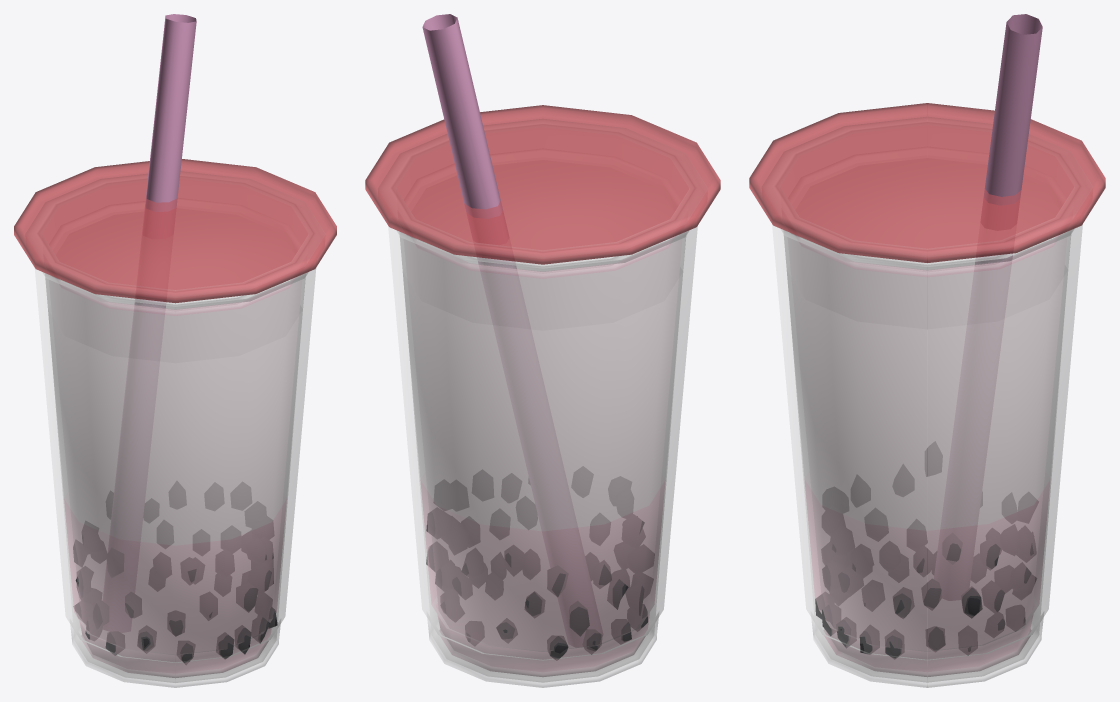
File: strawberry_milk _tea_boba.glb
3 renders of one model, left to right at view 1: azimuth 30°, elevation 25°; view 2: azimuth 150°, elevation 25°; view 3: azimuth 270°, elevation 25°, orthographic. The views are drawn at different scales.
Visible parts, largest first — view 1: Cup, drink, top, straw, singular pearls.001; view 2: Cup, drink, top, straw, singular pearls.001; view 3: Cup, drink, top, straw, singular pearls.001.
Boxes of the visible parts, left/top/right/bottom form: Cup: left=27, top=171, right=323, bottom=687; drink: left=45, top=273, right=305, bottom=677; top: left=14, top=159, right=336, bottom=303; straw: left=134, top=14, right=196, bottom=308; singular pearls.001: left=73, top=534, right=277, bottom=663; Cup: left=378, top=119, right=707, bottom=687; drink: left=399, top=232, right=686, bottom=676; top: left=365, top=105, right=720, bottom=264; straw: left=422, top=14, right=516, bottom=268; singular pearls.001: left=426, top=512, right=654, bottom=659; Cup: left=762, top=117, right=1092, bottom=687; drink: left=783, top=231, right=1071, bottom=676; top: left=749, top=103, right=1105, bottom=262; straw: left=975, top=14, right=1042, bottom=265; singular pearls.001: left=815, top=448, right=1036, bottom=658.
Size of the model in its own units: 1.03 by 2.06 by 1.03.
